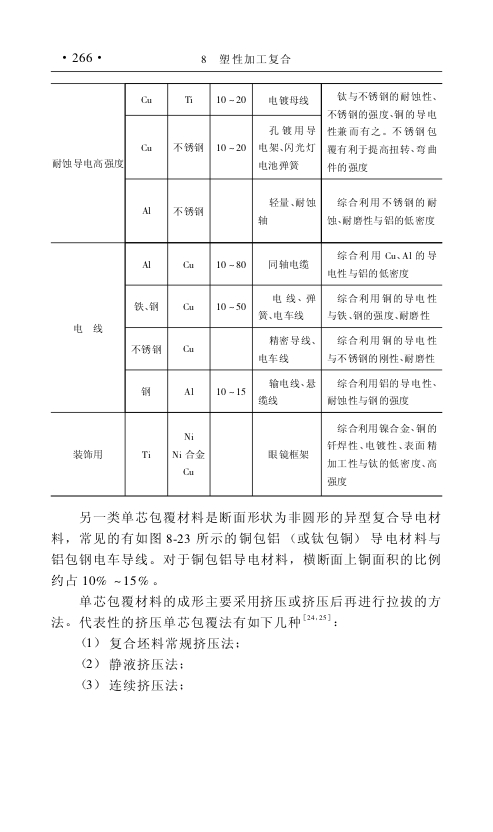table: (50, 83, 443, 497)
